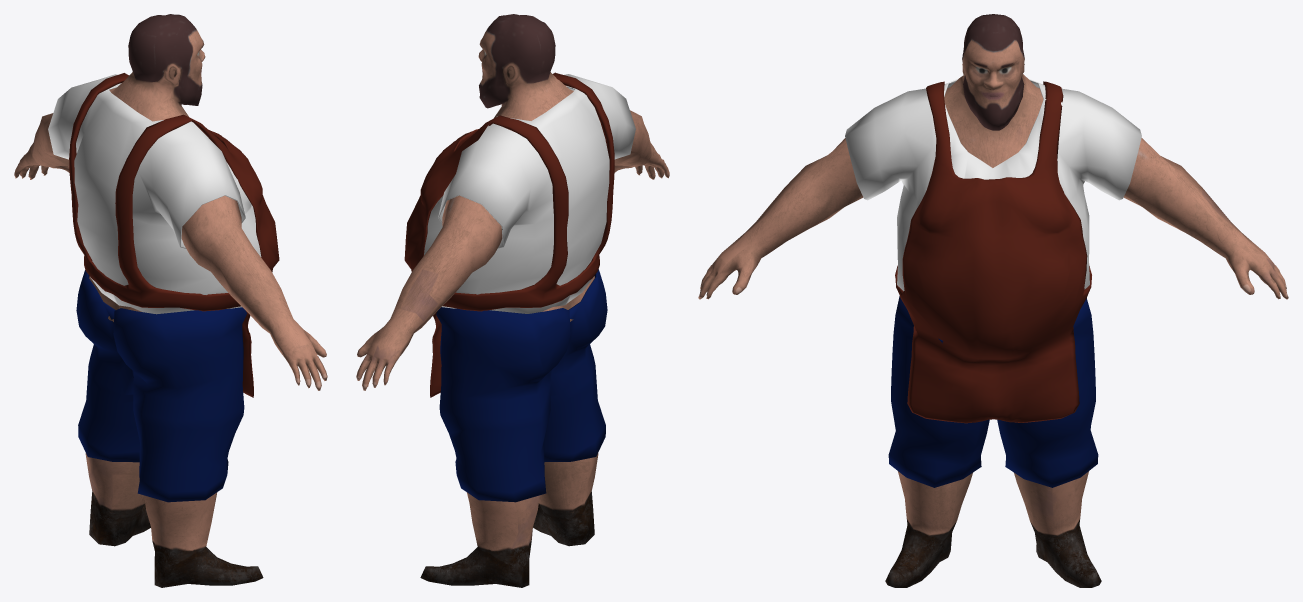
Rendered from biracıCha.fbx.
The picture shows the model from 3 angles, left to right: view 1: azimuth 30°, elevation 25°; view 2: azimuth 150°, elevation 25°; view 3: azimuth 270°, elevation 25°; orthographic projection.
Visible parts, largest first — view 1: LOW, pant, kıyafet, yelek; view 2: LOW, pant, kıyafet, yelek; view 3: yelek, LOW, kıyafet, pant.
Boxes of the visible parts, <box> form: LOW: <box>14,14,327,587</box>; pant: <box>76,270,246,502</box>; kıyafet: <box>48,74,261,314</box>; yelek: <box>69,73,279,397</box>; LOW: <box>356,14,669,587</box>; pant: <box>436,269,607,502</box>; kıyafet: <box>424,74,635,313</box>; yelek: <box>404,72,614,397</box>; yelek: <box>895,81,1091,423</box>; LOW: <box>698,14,1288,587</box>; kıyafet: <box>845,79,1141,291</box>; pant: <box>888,296,1098,487</box>.
Bounding box in the file's own units: 157 × 470 × 457.
